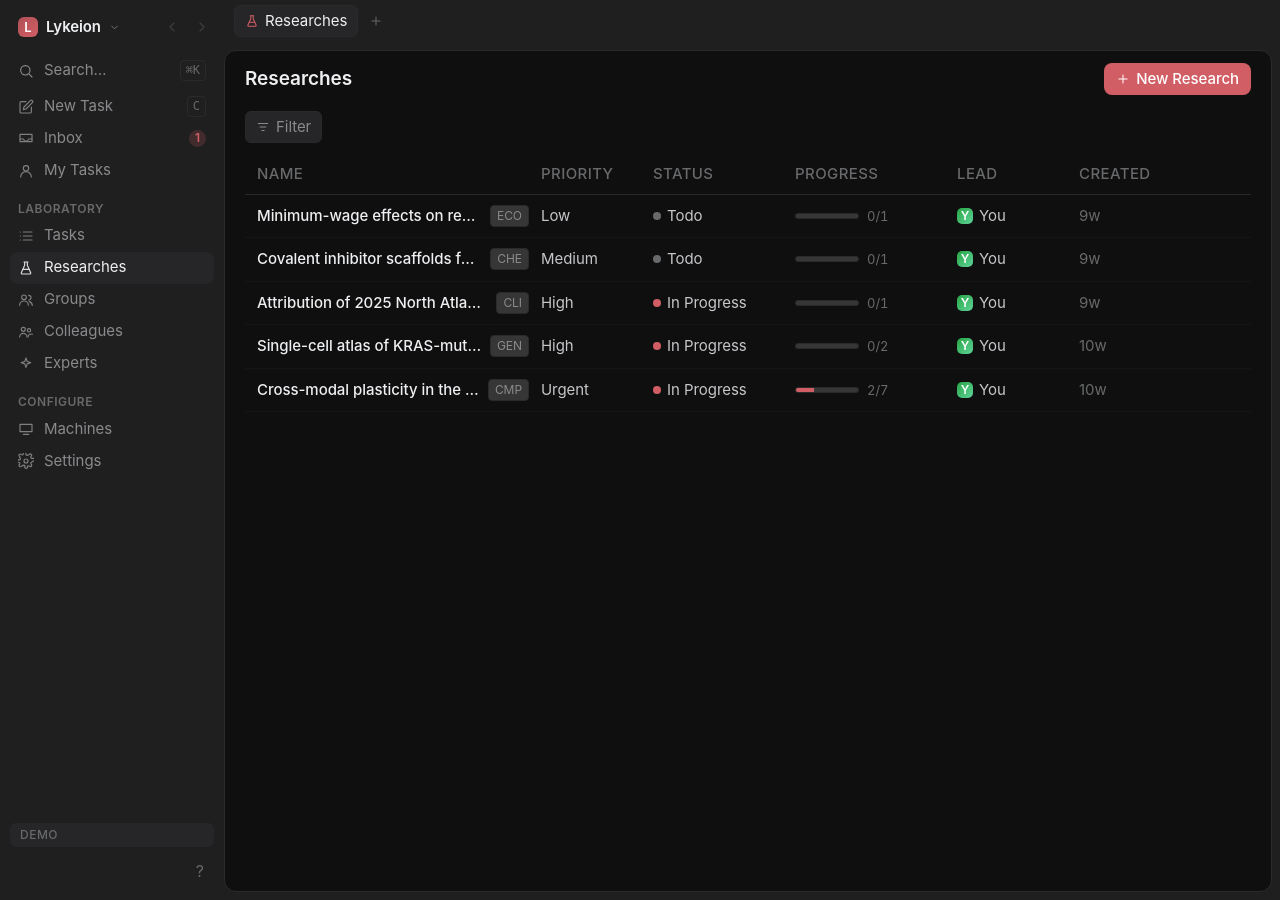
Test case: lists experts, opens a detail with instructions + tools, and opens the create modal
Click the link "Experts".
click(58, 363)  # box [18,353,97,372]
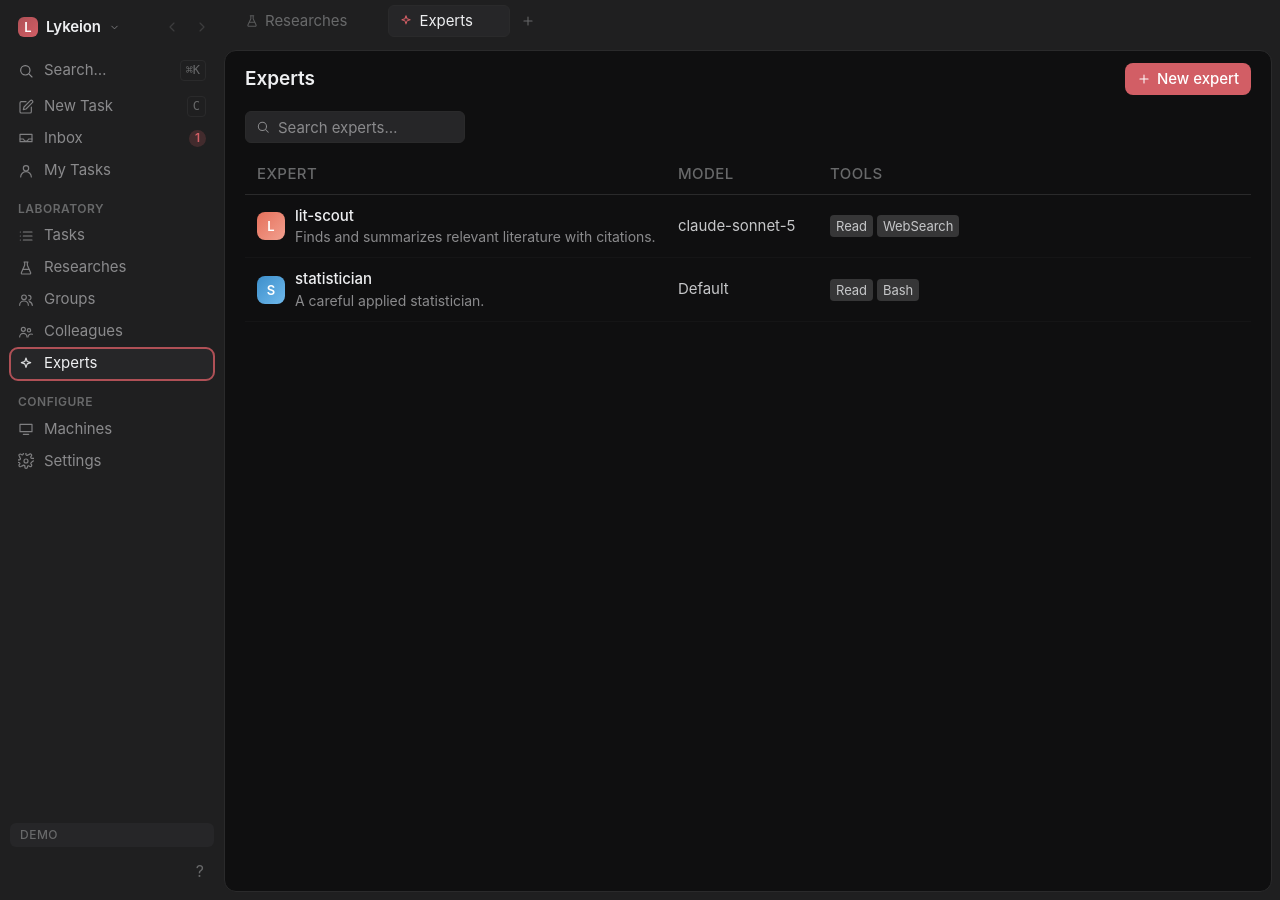
Result: the text "statistician" is shown
Click the text "statistician".
click(334, 279)  # box [295,269,372,288]
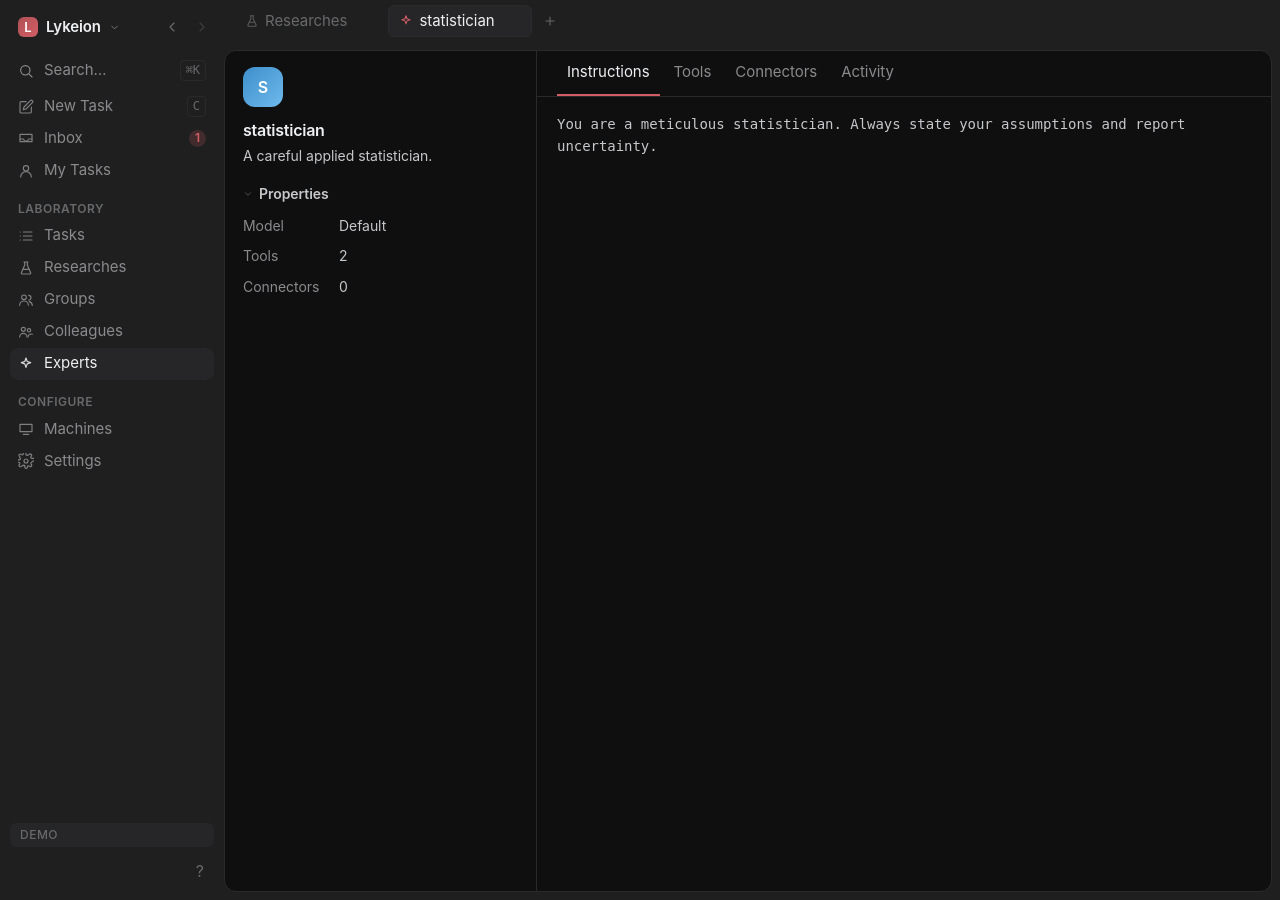
Result: the text "meticulous statistician" is shown at [557,116,1194,154]
Click the button "Tools".
click(692, 73)  # box [664,51,721,96]
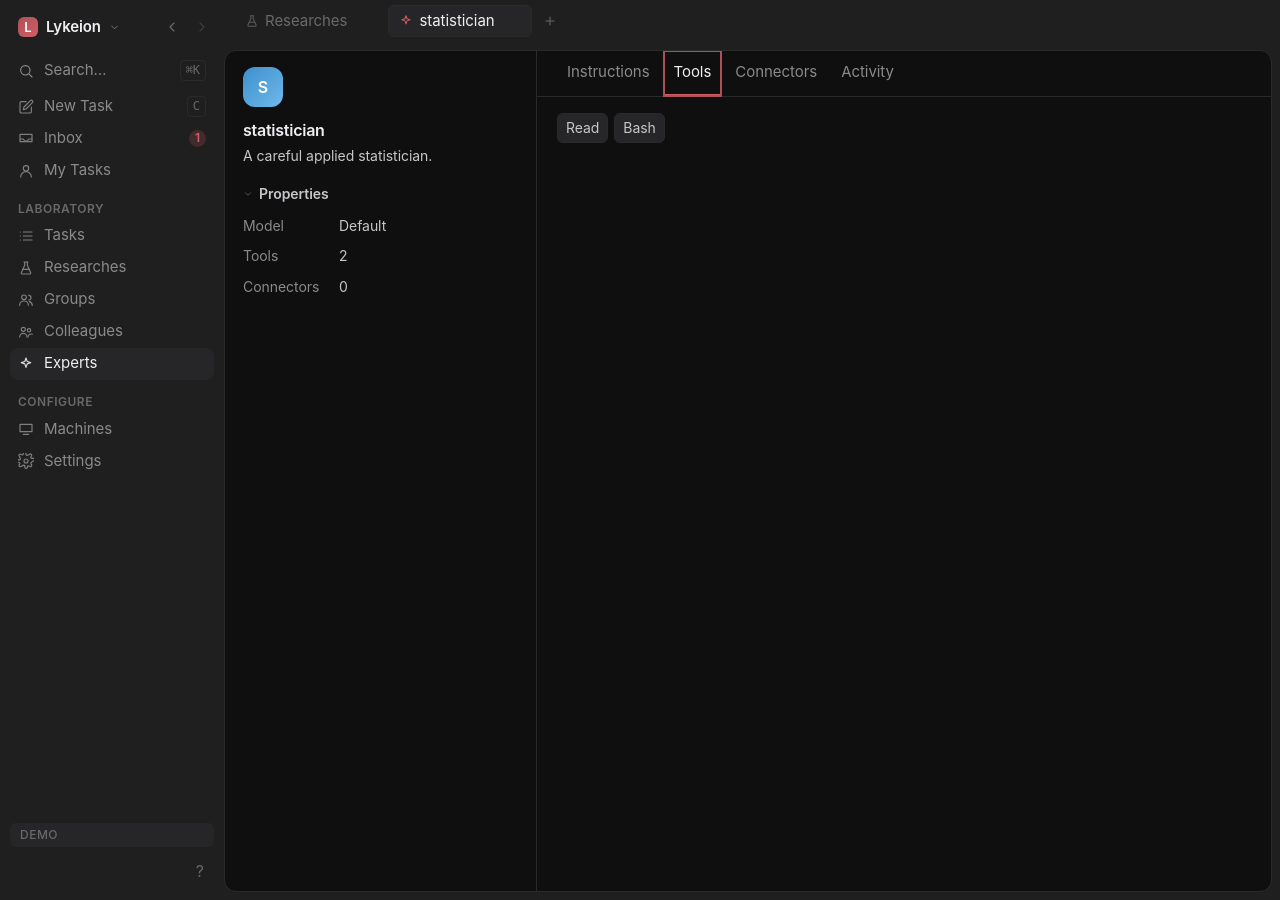
Result: the text "Bash" is shown at [614,112,665,143]
